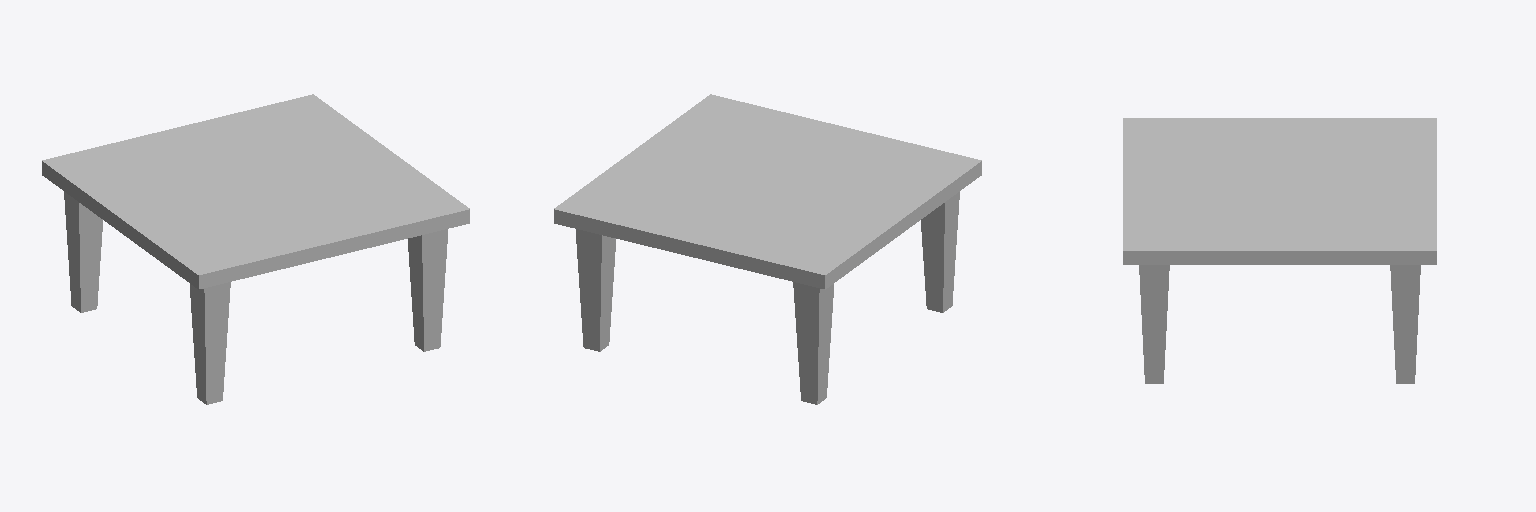
The model's file is table.obj.
3 renders of one model, left to right at view 1: azimuth 30°, elevation 25°; view 2: azimuth 150°, elevation 25°; view 3: azimuth 270°, elevation 25°, orthographic.
Visible parts, largest first — view 1: Cube.002_Cube; view 2: Cube.002_Cube; view 3: Cube.002_Cube.
Boxes of the visible parts, box(x1,y1,x2,y2) form: Cube.002_Cube: box(42, 94, 469, 404); Cube.002_Cube: box(554, 94, 981, 404); Cube.002_Cube: box(1123, 118, 1436, 383).
Bounding box in the file's own units: 2 × 1 × 2.